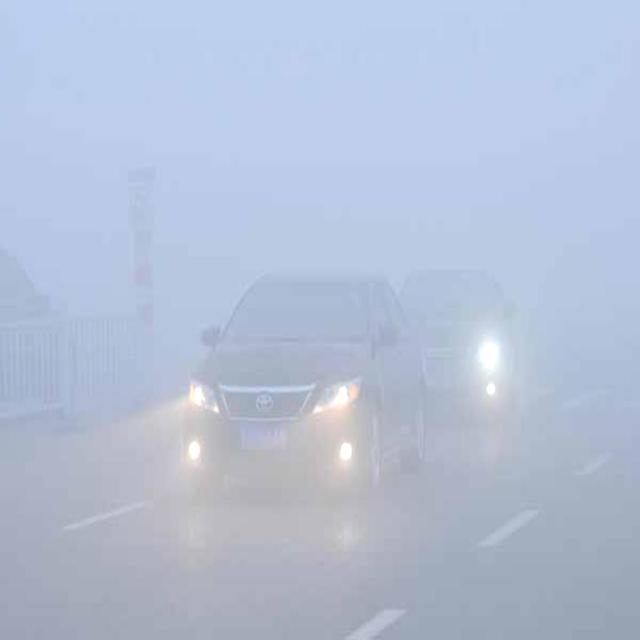Car: (181, 271, 432, 485), (393, 260, 519, 426)
